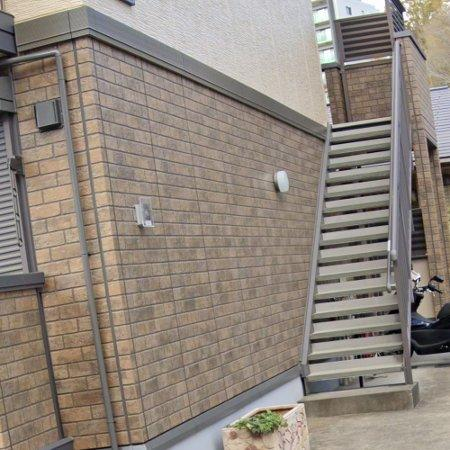stairs: (307, 118, 409, 394)
